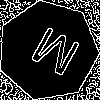M: (23, 25, 83, 86)
